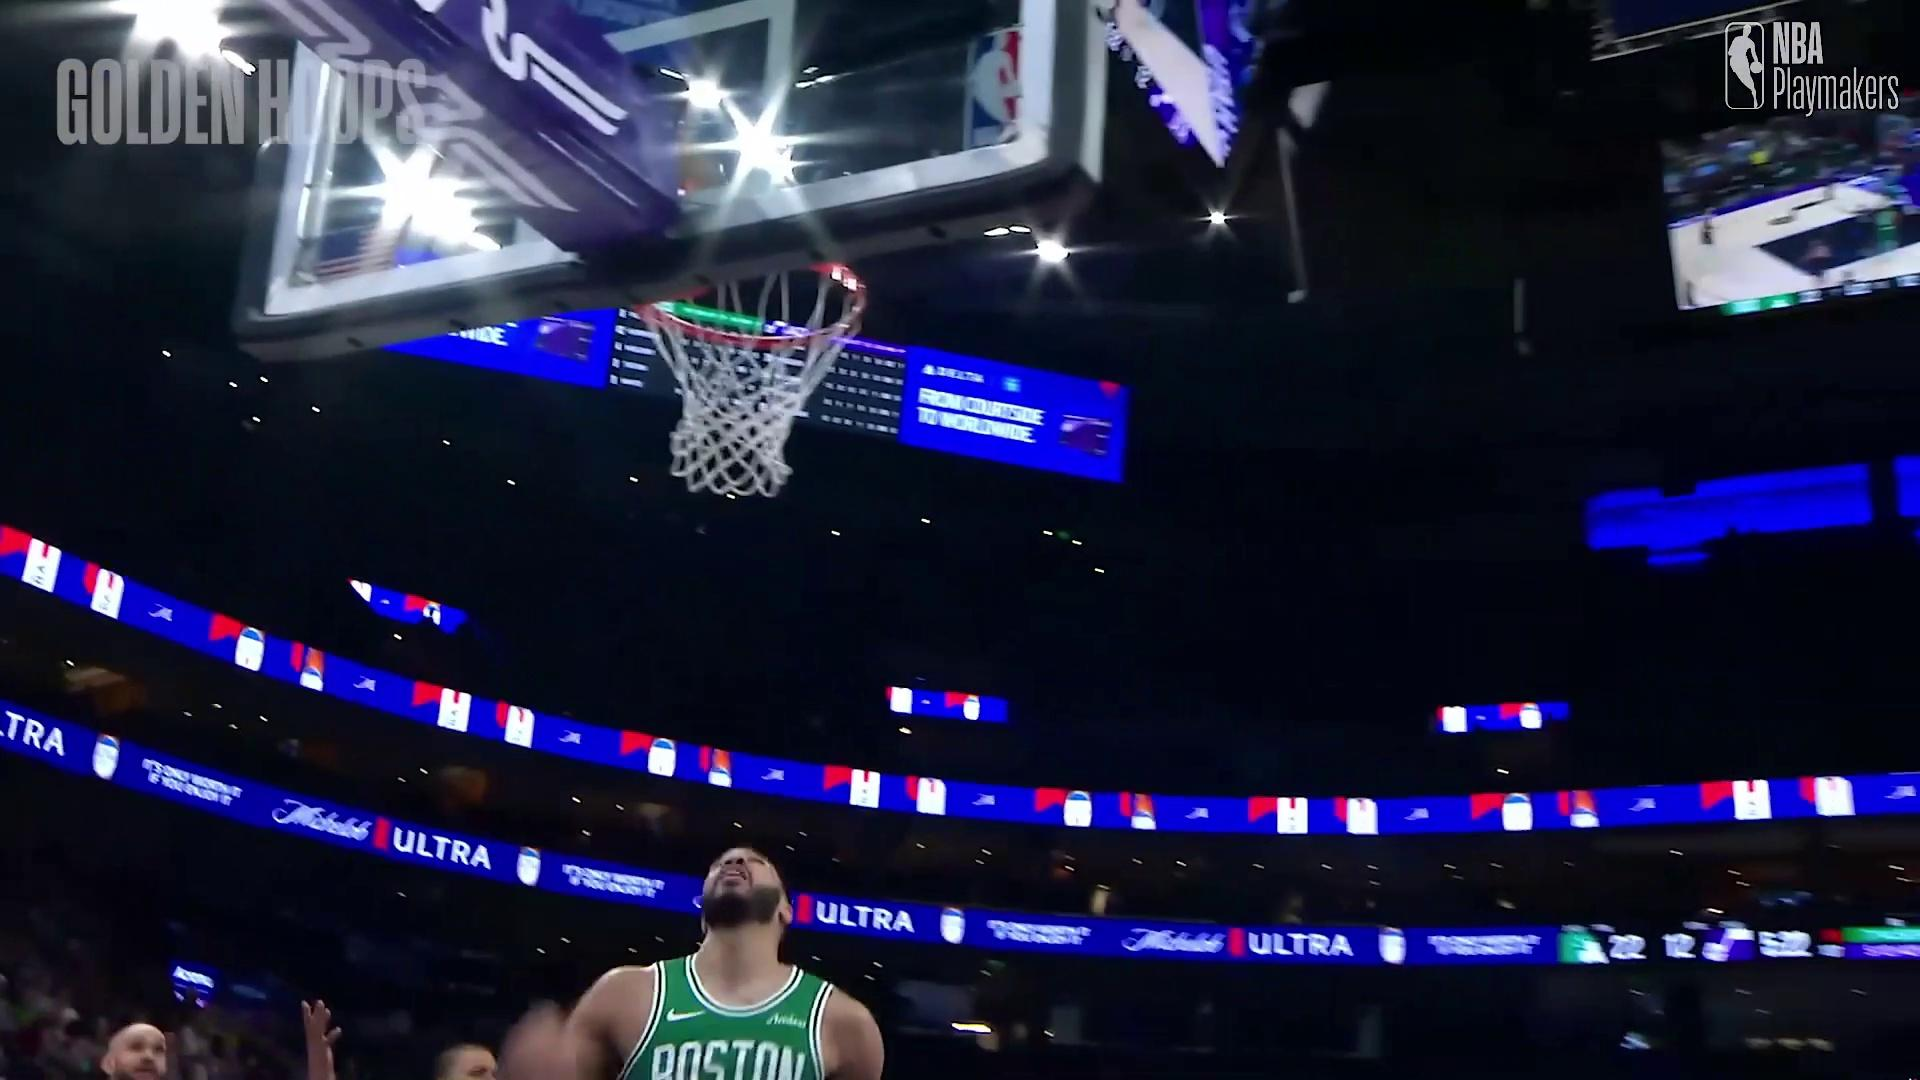hoop: (647, 252, 870, 508)
